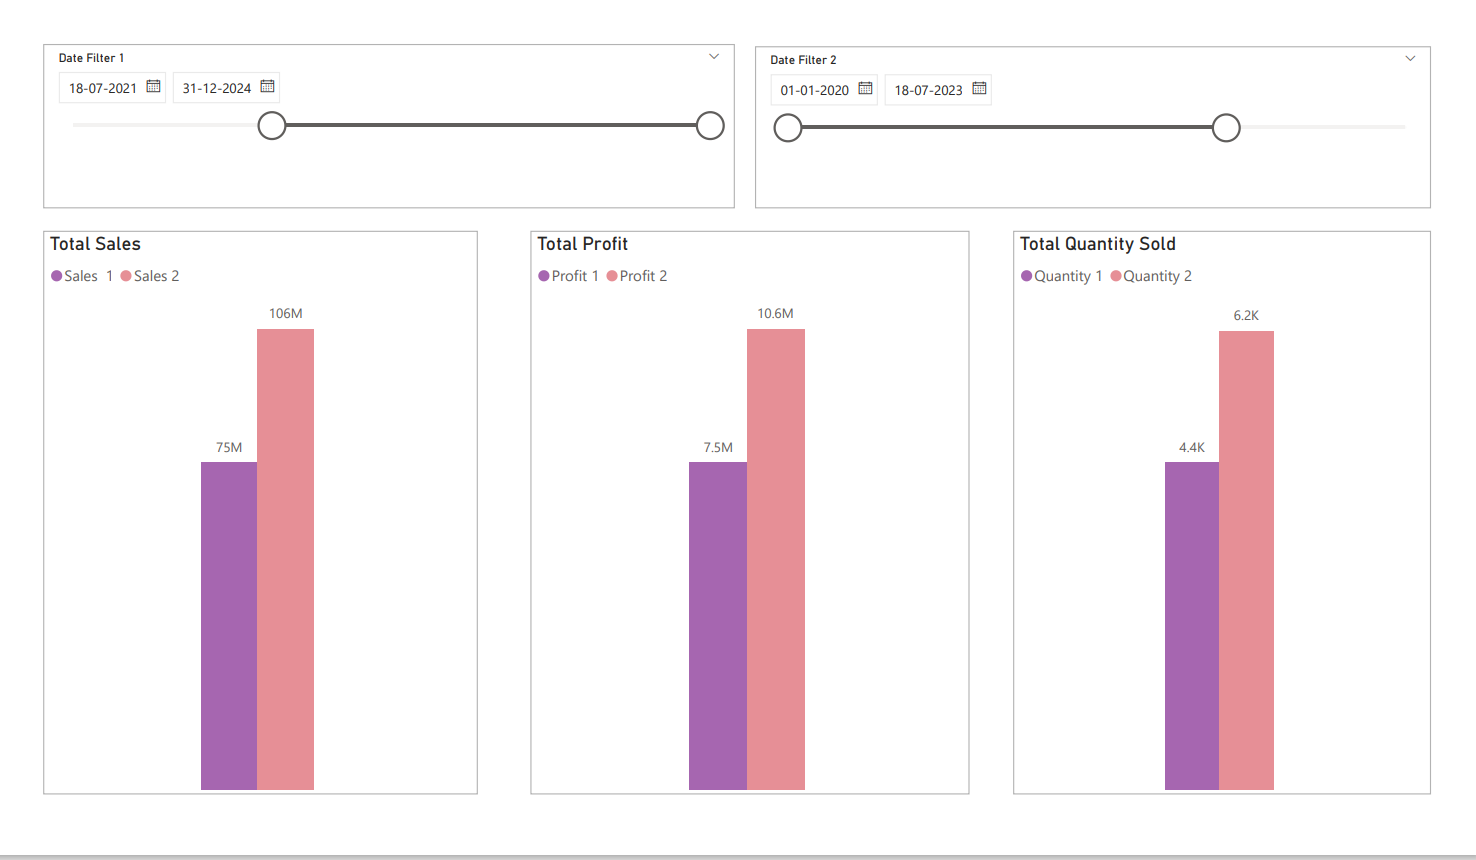

The page's visual inventory and layout, read from the dashboard file:
{"tool":"powerbi","page":{"name":"Comparision Sale/Profit/Quantity","canvas":[1280,720],"ordinal":2},"visuals":[{"type":"slicer","fields":{"Values":["Date Table 1.Date"]},"box":[19.6,18.1,619.8,147.4],"z":0},{"type":"slicer","fields":{"Values":["Date Table 2.Date"]},"box":[657.5,19.6,604.8,145.9],"z":1000},{"type":"clusteredColumnChart","title":"Total Sales   ","fields":{"Y":["Sum(Fact Table.Net Sales  )","Date Table 1.Sum of Net Sales"]},"box":[19.6,185.1,389.7,504],"z":2000},{"type":"clusteredColumnChart","title":"Total Profit ","fields":{"Y":["Sum(Fact Table.Profit)","Measures Table.Total Profit"]},"box":[455.9,185.1,392.7,504],"z":3000},{"type":"clusteredColumnChart","title":"Total Quantity Sold","fields":{"Y":["Sum(Fact Table.Units Sold)","Measures Table.Quantity Sold"]},"box":[887.6,185.1,374.6,504],"z":4000}]}

Visuals, with their boxes on the page's 1280x720 design canvas (x1, y1, x2, y2). These are canvas units, not pixel positions in the 1476x860 screenshot, which may show the page scaled, cropped or inside an application window:
slicer - Date Table 1.Date: (left=20, top=18, right=639, bottom=166)
slicer - Date Table 2.Date: (left=658, top=20, right=1262, bottom=166)
"Total Sales   " clusteredColumnChart: (left=20, top=185, right=409, bottom=689)
"Total Profit " clusteredColumnChart: (left=456, top=185, right=849, bottom=689)
"Total Quantity Sold" clusteredColumnChart: (left=888, top=185, right=1262, bottom=689)
